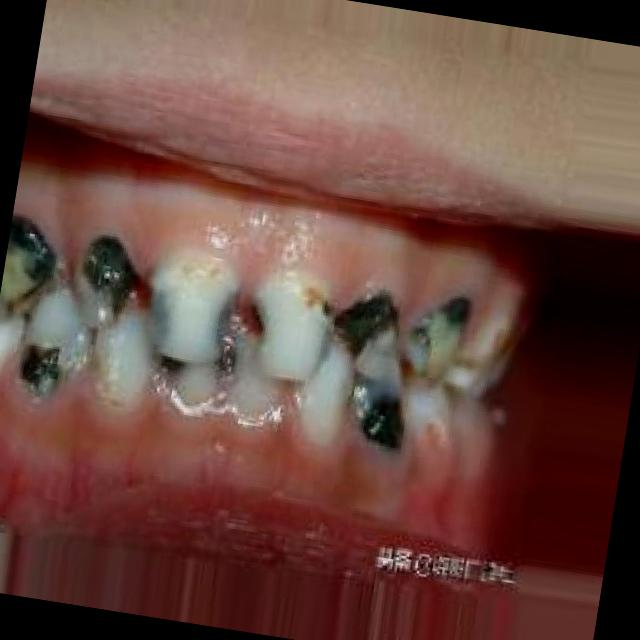caries: (0, 213, 58, 328), (348, 377, 412, 452), (328, 292, 398, 346), (419, 308, 463, 372), (16, 336, 68, 390), (216, 315, 250, 393), (83, 250, 130, 302)
